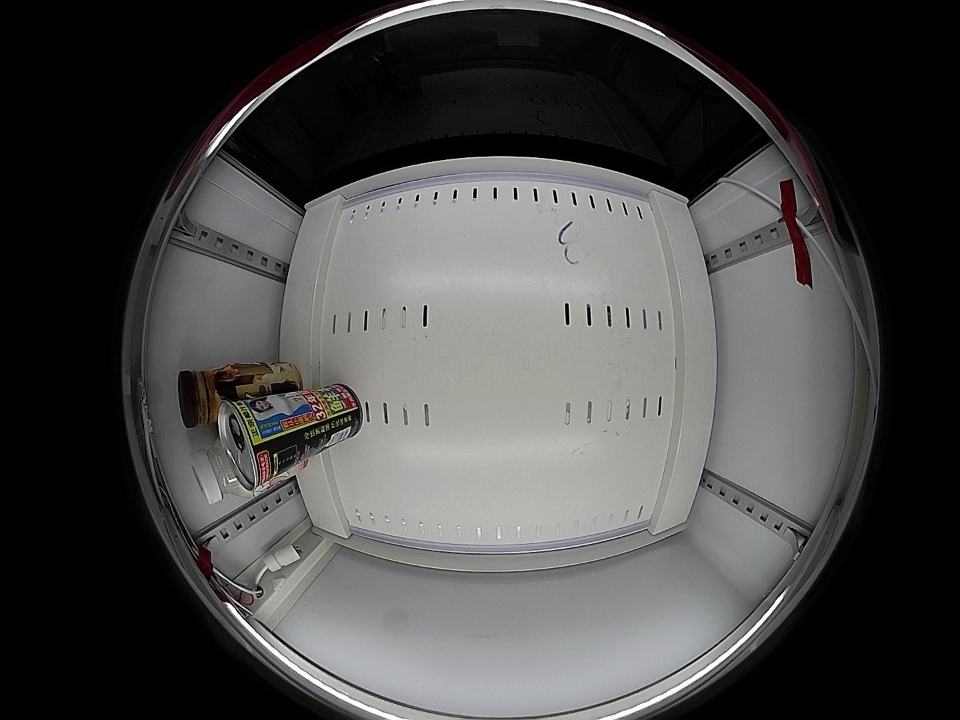lujikafei: (178, 363, 242, 429)
weiweidounai: (190, 439, 248, 504)
yezhi: (217, 394, 279, 492)
